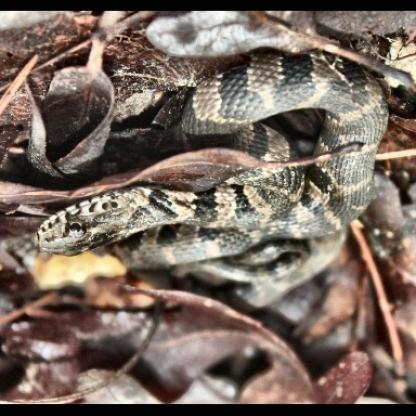Snake: (28, 51, 391, 257)
